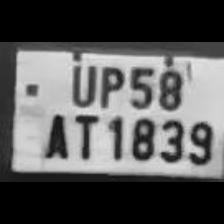1: (99, 110, 127, 160)
3: (156, 114, 184, 162)
5: (124, 60, 154, 108)
8: (125, 111, 156, 160), (154, 65, 186, 109)
9: (184, 114, 214, 166)
A: (38, 108, 70, 158)
P: (94, 60, 125, 108)
T: (68, 110, 100, 160)
U: (65, 58, 97, 106)
